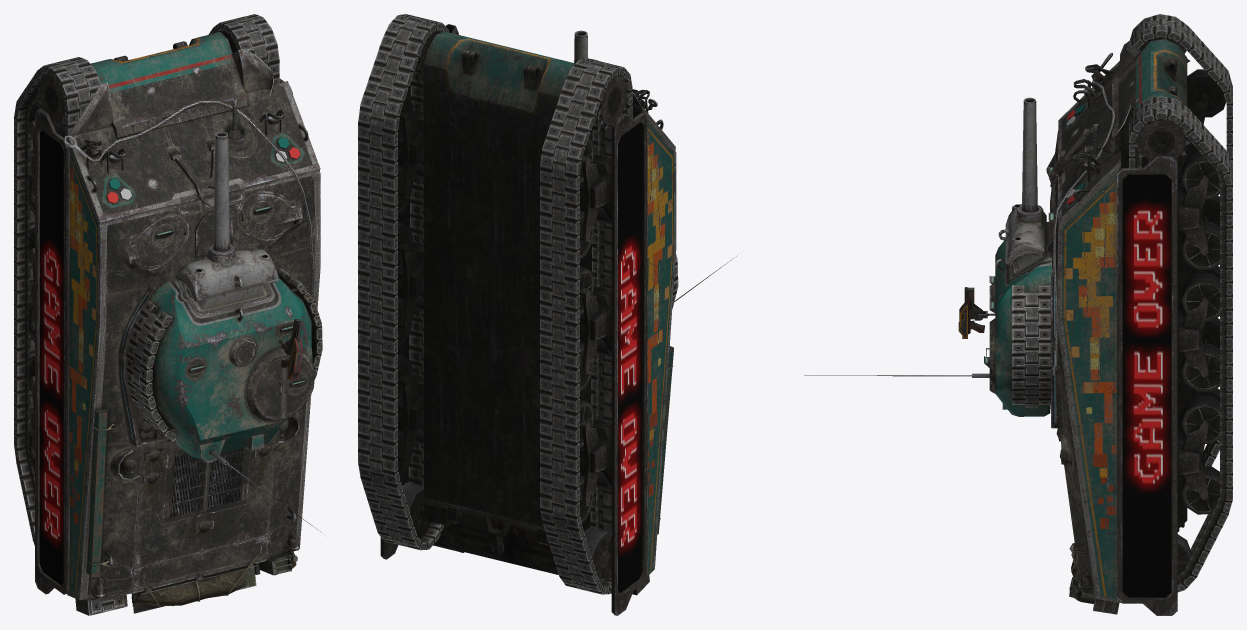
The picture shows the model from 3 angles, left to right: view 1: azimuth 30°, elevation 25°; view 2: azimuth 150°, elevation 25°; view 3: azimuth 270°, elevation 25°; orthographic projection. The views are drawn at different scales.
Visible parts, largest first — view 1: hull, turret_01, hull_screen_txt, chassis_track_L, gun_01_mask, chassis_track_R, gun_01, chassis_wheel_L_01; view 2: hull, chassis_track_L, chassis_track_R, hull_screen_txt, chassis_wheel_L_11, chassis_wheel_L_01, chassis_wheel_R_11; view 3: hull, hull_screen_txt, turret_01, chassis_track_R, chassis_track_L, gun_01_mask, gun_01, chassis_wheel_R_01, chassis_wheel_R_05, chassis_wheel_R_08, chassis_wheel_L_02, chassis_wheel_R_03 (+3 smaller).
Boxes of the visible parts, x1,y1,x2,y2 form: hull: (30, 32, 320, 615); turret_01: (126, 268, 322, 532); hull_screen_txt: (39, 130, 63, 585); chassis_track_L: (14, 57, 100, 545); gun_01_mask: (176, 243, 279, 301); chassis_track_R: (208, 14, 279, 84); gun_01: (213, 131, 229, 251); chassis_wheel_L_01: (38, 73, 65, 127); hull: (380, 24, 676, 615); chassis_track_L: (540, 58, 632, 594); chassis_track_R: (358, 14, 448, 550); hull_screen_txt: (618, 122, 642, 592); chassis_wheel_L_11: (584, 527, 611, 583); chassis_wheel_L_01: (597, 75, 627, 130); chassis_wheel_R_11: (402, 482, 431, 539); hull: (1046, 39, 1209, 615); hull_screen_txt: (1123, 174, 1171, 597); turret_01: (804, 221, 1051, 416); chassis_track_R: (1129, 96, 1232, 592); chassis_track_L: (1130, 14, 1232, 466); gun_01_mask: (998, 204, 1046, 265); gun_01: (1022, 97, 1037, 212); chassis_wheel_R_01: (1135, 118, 1189, 161); chassis_wheel_R_05: (1181, 273, 1219, 321); chassis_wheel_R_08: (1181, 396, 1219, 443); chassis_wheel_L_02: (1187, 69, 1225, 117); chassis_wheel_R_03: (1181, 221, 1219, 269).
Bounding box in the file's own units: 2.77 × 6.06 × 4.96.
Materials: 4 (4 with a texture image).
